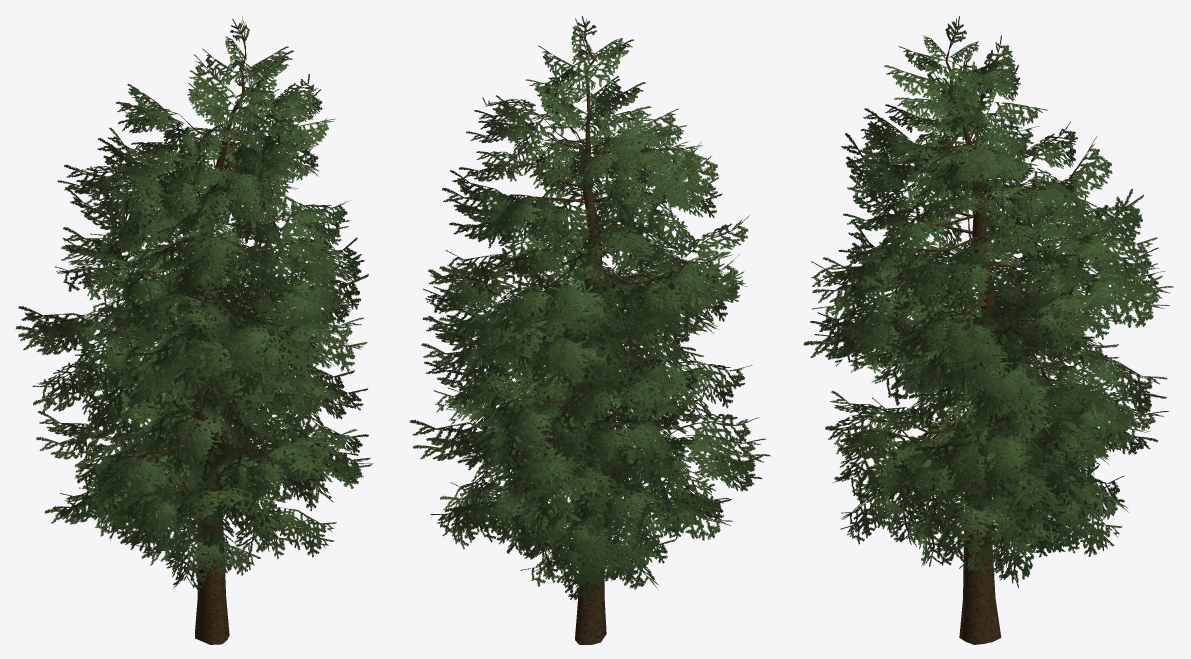
File: fir2_l0.glb
3 renders of one model, left to right at view 1: azimuth 30°, elevation 25°; view 2: azimuth 150°, elevation 25°; view 3: azimuth 270°, elevation 25°, orthographic. The views are drawn at different scales.
Visible parts, largest first — view 1: Christmas tree_2_LOD0_Brunches_Mat_0, Christmas tree_2_LOD0_Bark_Mat_0; view 2: Christmas tree_2_LOD0_Brunches_Mat_0, Christmas tree_2_LOD0_Bark_Mat_0; view 3: Christmas tree_2_LOD0_Brunches_Mat_0, Christmas tree_2_LOD0_Bark_Mat_0.
Boxes of the visible parts, bbox=[...] form: Christmas tree_2_LOD0_Brunches_Mat_0: bbox=[16, 16, 373, 592]; Christmas tree_2_LOD0_Bark_Mat_0: bbox=[103, 49, 295, 644]; Christmas tree_2_LOD0_Brunches_Mat_0: bbox=[410, 16, 770, 608]; Christmas tree_2_LOD0_Bark_Mat_0: bbox=[497, 43, 687, 644]; Christmas tree_2_LOD0_Brunches_Mat_0: bbox=[803, 16, 1173, 588]; Christmas tree_2_LOD0_Bark_Mat_0: bbox=[886, 49, 1088, 644].
Size of the model in its own units: 11.27 by 21 by 11.34.
2 materials, 2 textured.
